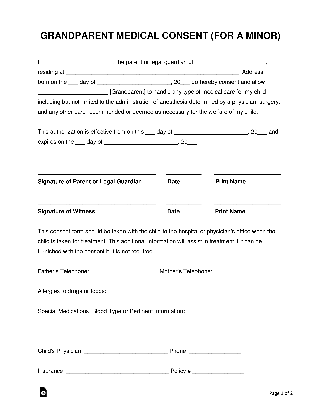textline: (34, 329, 285, 337), (106, 287, 286, 297), (34, 196, 158, 207), (65, 70, 240, 77), (185, 307, 286, 316), (64, 367, 171, 375), (83, 347, 170, 356), (211, 168, 284, 178), (37, 171, 158, 177), (193, 59, 275, 67), (40, 60, 117, 67), (188, 349, 245, 358), (212, 201, 284, 208), (191, 367, 246, 376), (89, 269, 159, 276), (103, 141, 181, 147), (212, 270, 288, 275), (172, 131, 252, 135), (95, 82, 174, 86), (35, 91, 109, 95), (163, 171, 204, 178), (165, 201, 204, 207), (179, 81, 192, 88), (143, 131, 158, 137), (73, 139, 87, 145), (67, 82, 80, 87), (186, 143, 201, 147), (257, 132, 269, 136)
